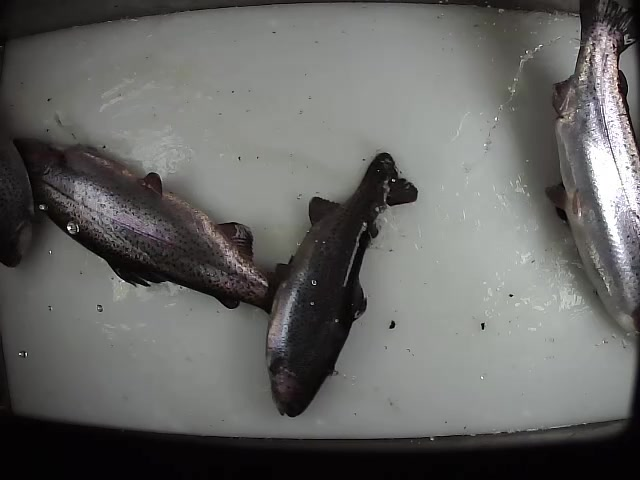fish: (11, 134, 281, 311), (264, 148, 421, 419)
